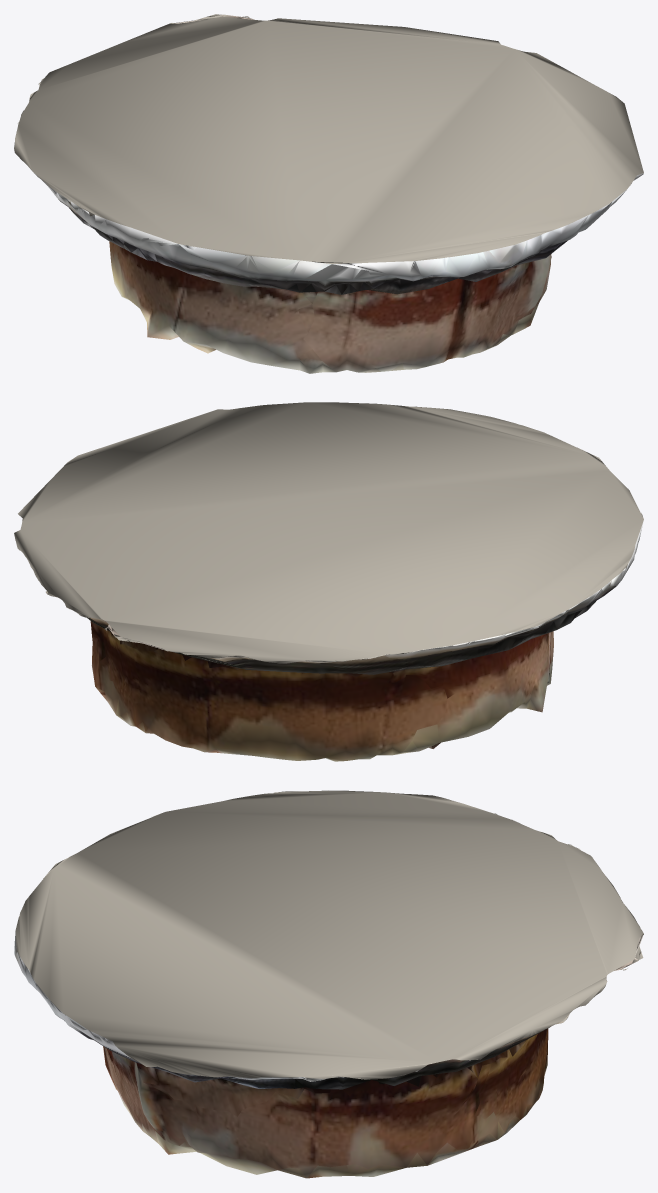
Rendered from cake_2690.obj.
3 views of the same model, one above another, from view 1: azimuth 30°, elevation 25°; view 2: azimuth 150°, elevation 25°; view 3: azimuth 270°, elevation 25° (orthographic). The views are drawn at different scales.
Bounding box in the file's own units: 0.1761 × 0.0558 × 0.177.
Materials: 1 (1 with a texture image).
